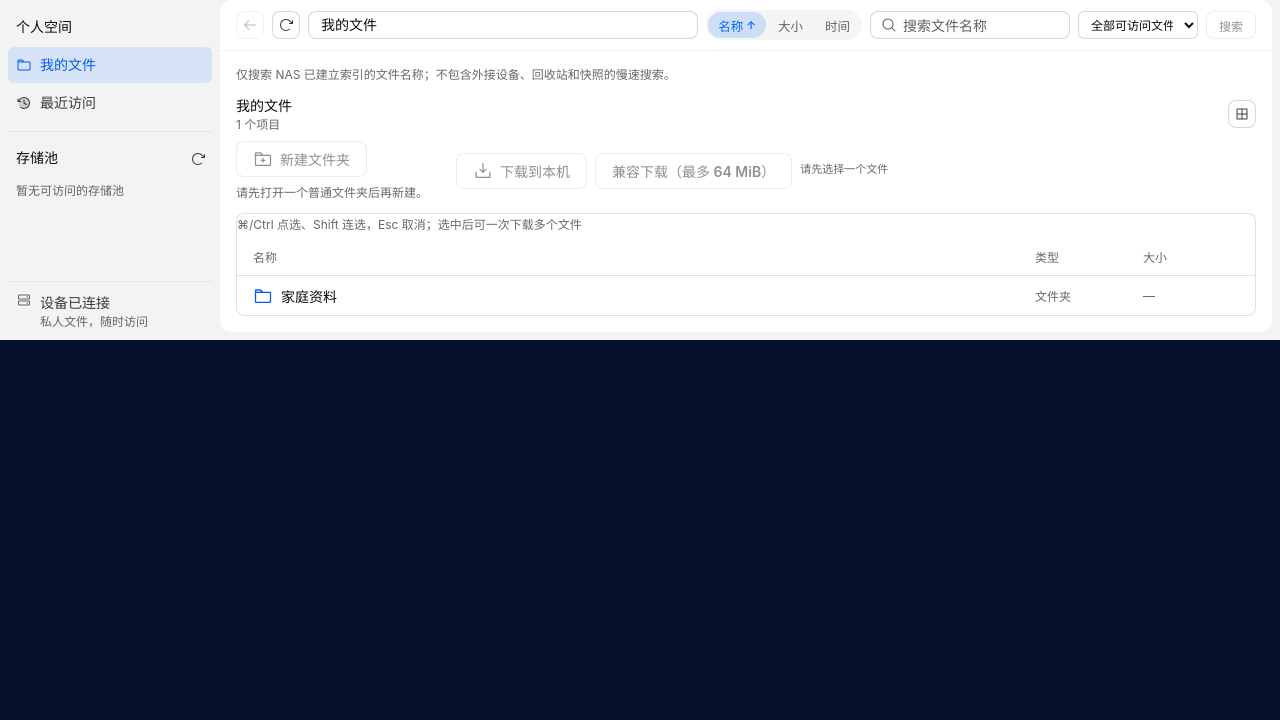
Test case: disables creation for encrypted or unsupported actual parent {"id":"storage","name":"家庭资料","path":"E.encrypted-parent","kind":"directory"}
Step 1. Click the button named "家庭资料文件夹" → (309,296), box [237,275,1255,315]
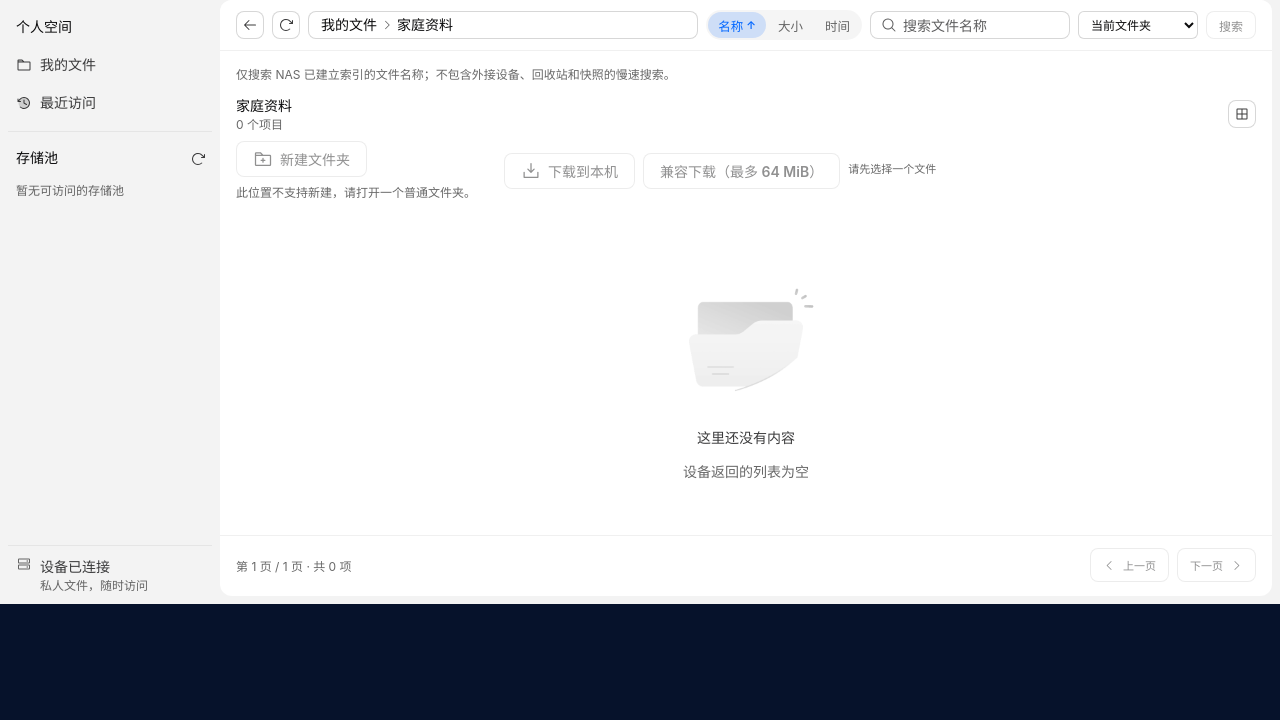
Expected: the button "新建文件夹" is disabled, [236,141,367,177]
Now the text "此位置不支持新建，请打开一个普通文件夹。" is shown, box [236,185,476,201]
